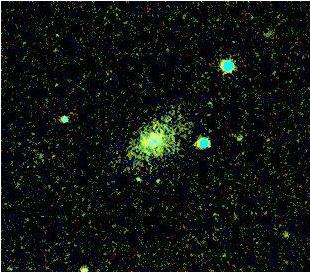star: (270, 219, 300, 249)
